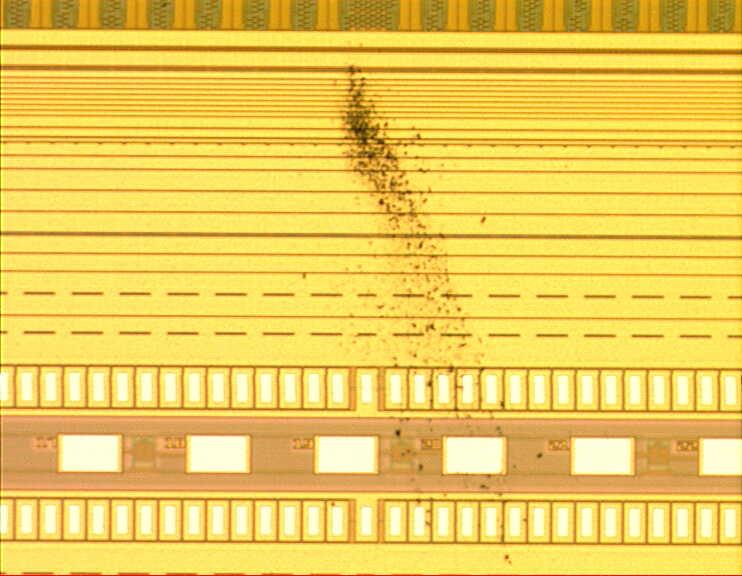PO CONTAMINATION: (322, 31, 548, 562)
